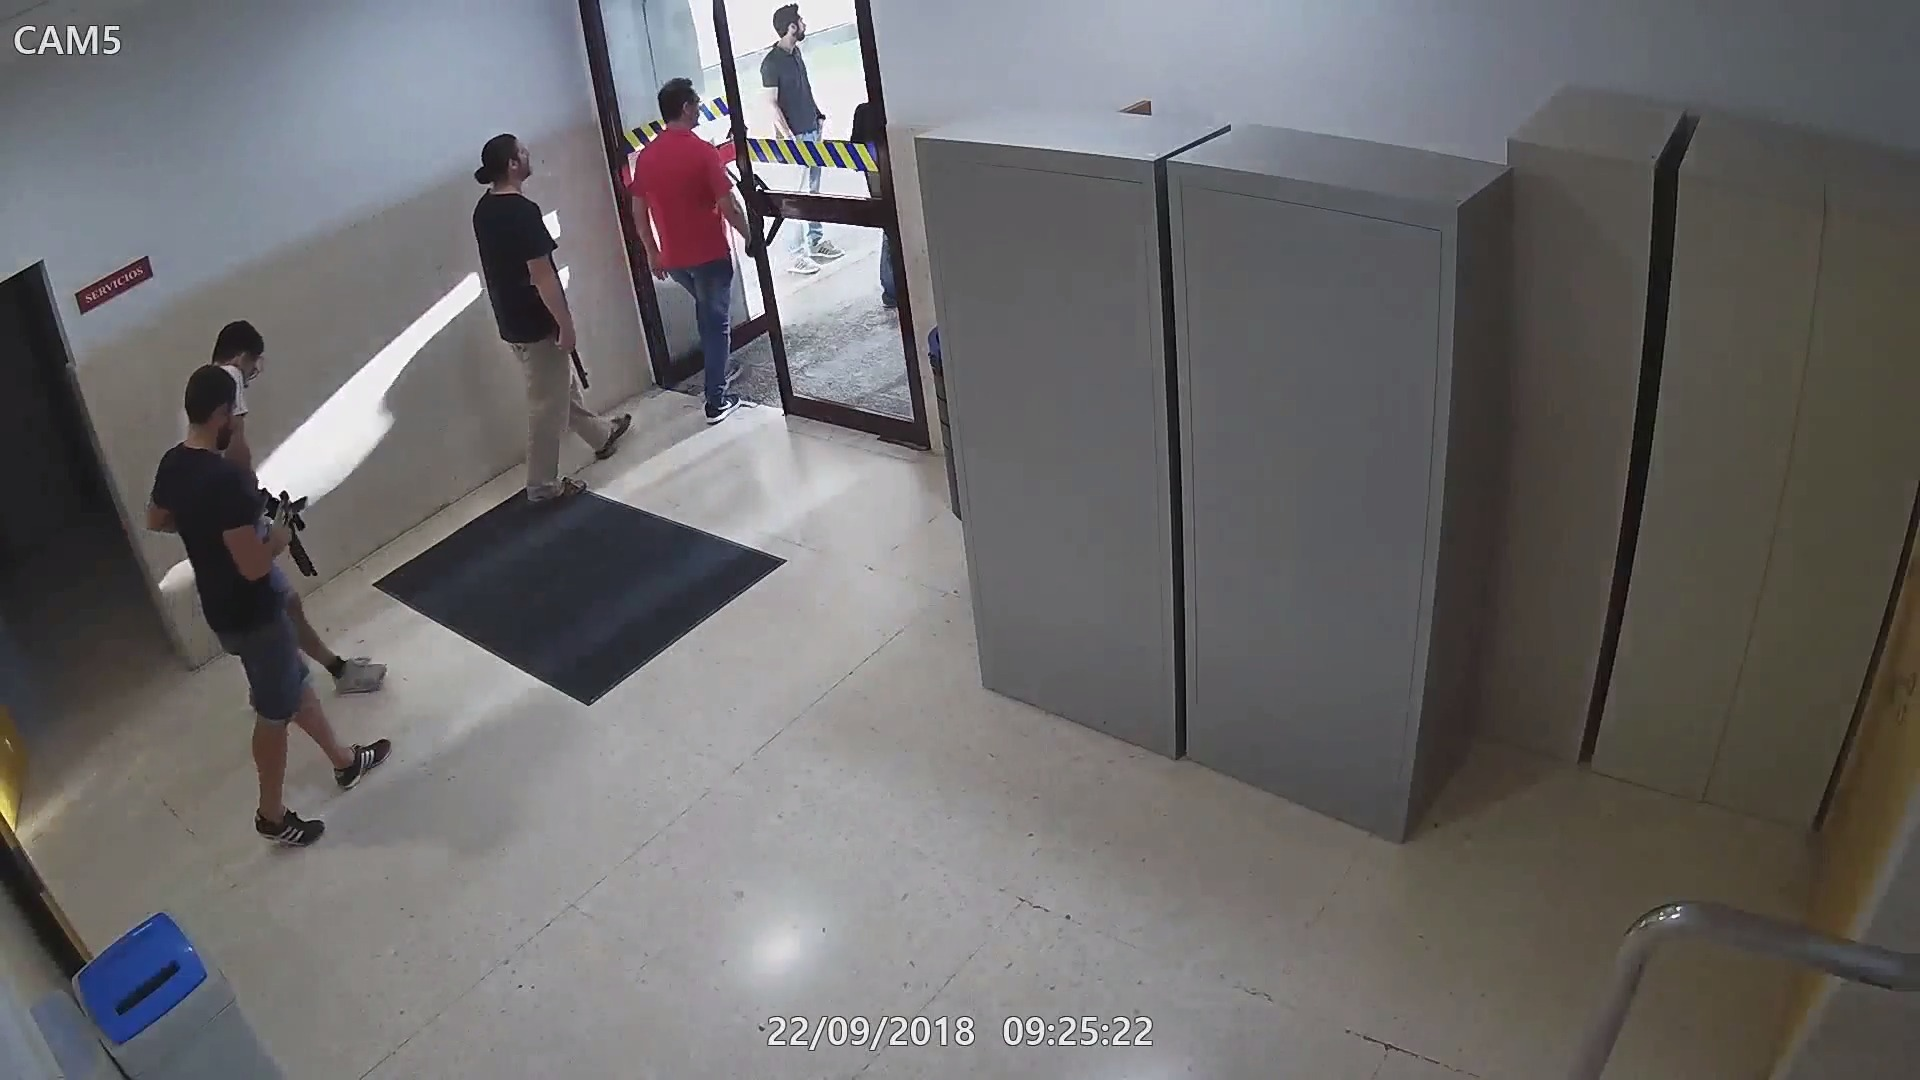Handgun: (264, 501, 309, 553)
Short_rifle: (260, 475, 326, 582), (556, 313, 597, 385)
